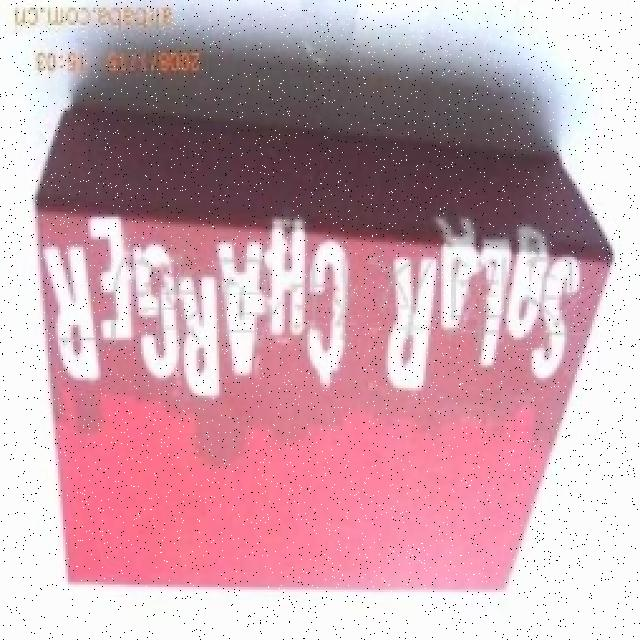box: (19, 87, 599, 608)
